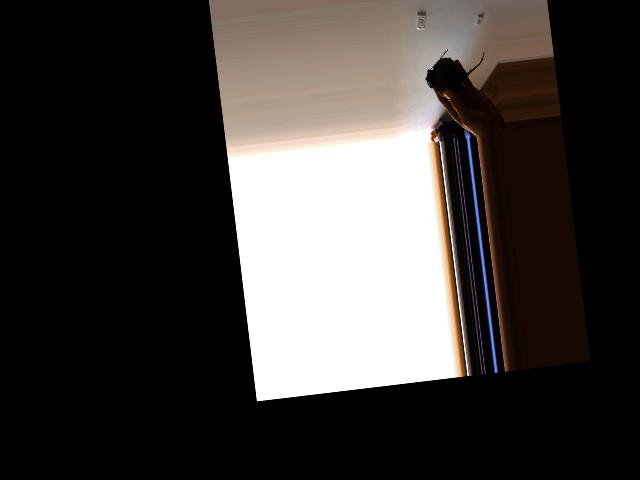beet: (422, 44, 489, 99)
